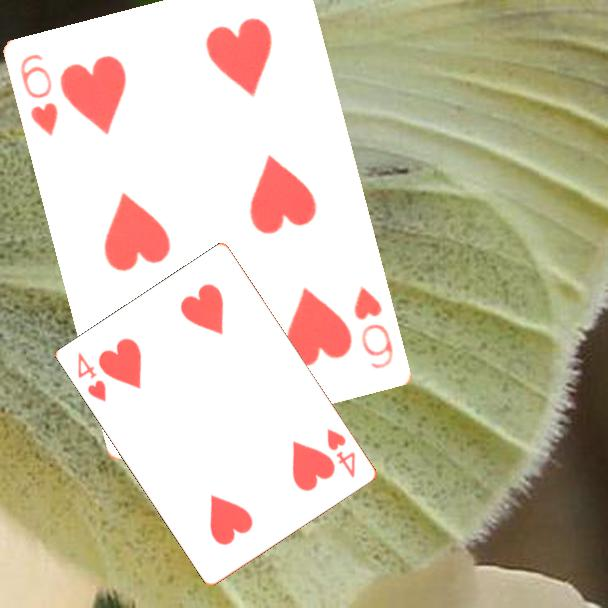h04: (74, 349, 110, 405), (324, 425, 359, 481)
h06: (351, 282, 397, 372), (17, 50, 62, 139)
